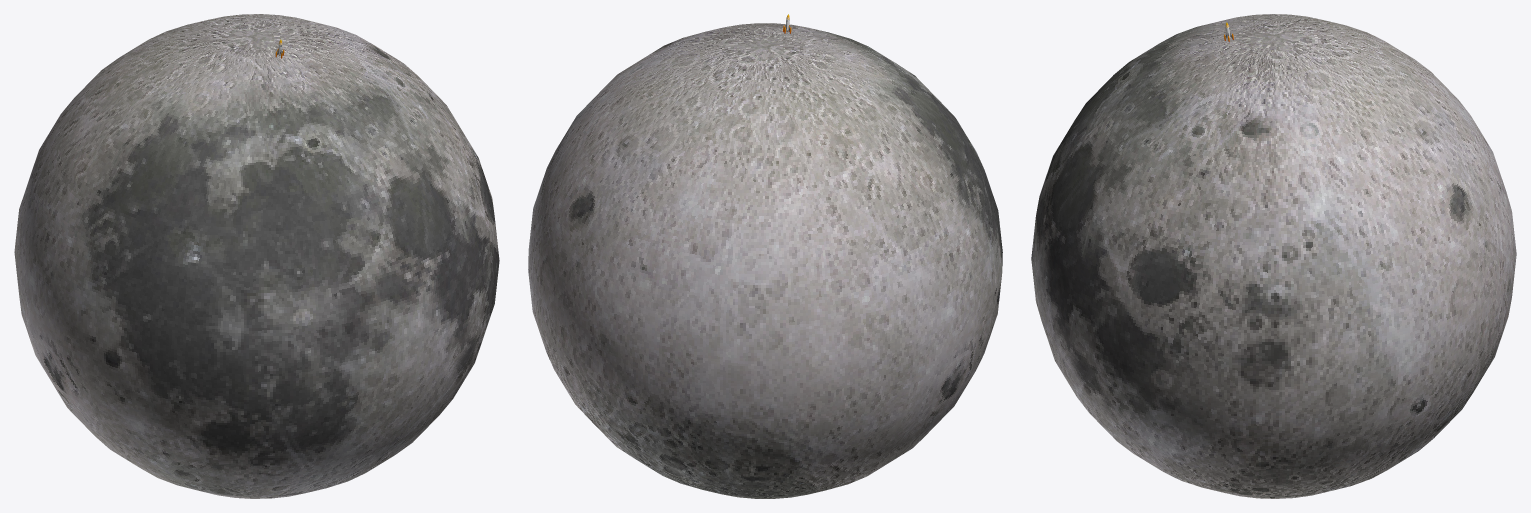
File: low_poly_moon2.glb
The picture shows the model from 3 angles, left to right: view 1: azimuth 30°, elevation 25°; view 2: azimuth 150°, elevation 25°; view 3: azimuth 270°, elevation 25°; orthographic projection.
Visible parts, largest first — view 1: moon; view 2: moon; view 3: moon.
Boxes of the visible parts, x1,y1,x2,y2 form: moon: (14, 14, 499, 498); moon: (528, 23, 1002, 498); moon: (1031, 14, 1516, 498).
Bounding box in the file's own units: 2 × 2.07 × 2.
6 materials, 3 textured.
